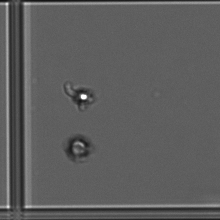Dead Cell: (60, 129, 95, 160)
Living Cell: (74, 84, 94, 111)
